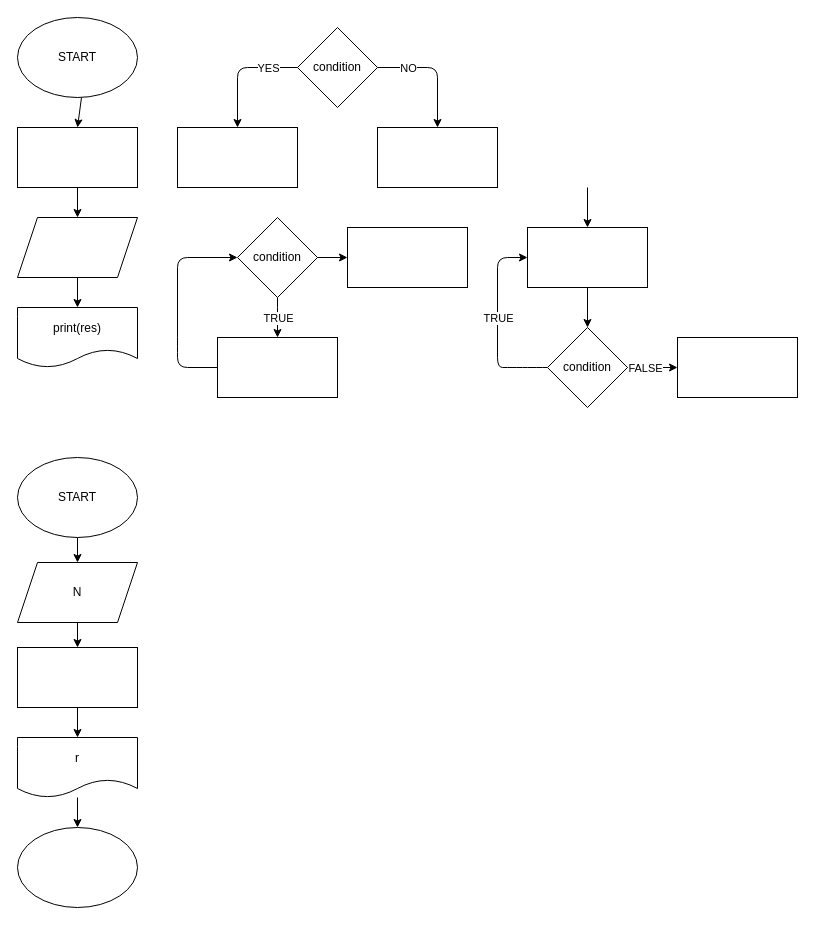
This 815x925 diagram has some shape labels left out. The shapes that lost their labels are listed below. From the top down, each one's centre as x and y in pixels, then its label:
pixel 77 157: count = 0 res = 1 * Sqrt(2)
pixel 77 247: count
pixel 77 677: r = random(1,N)
pixel 77 867: END
